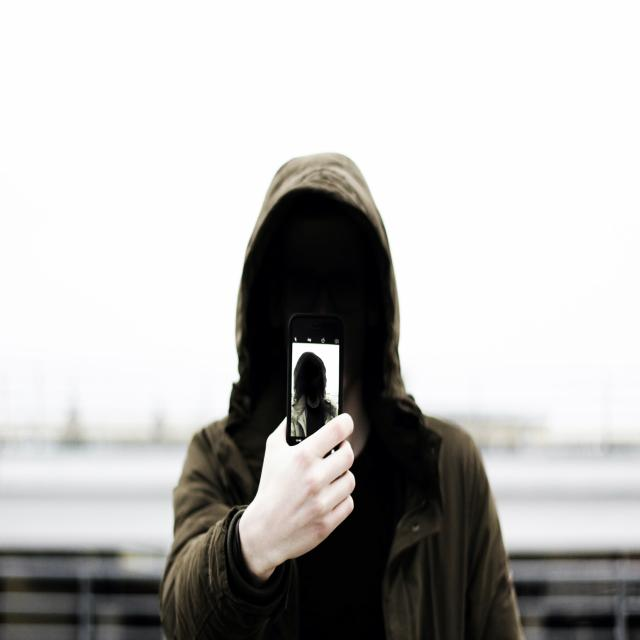adult: (168, 156, 508, 640)
